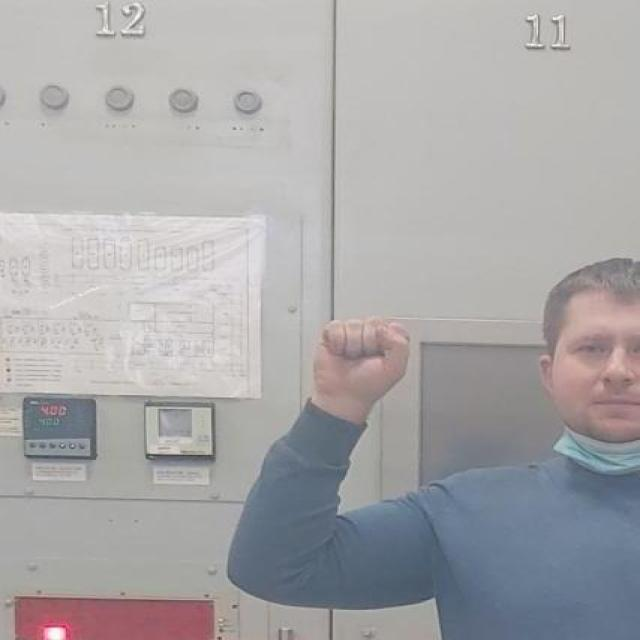hand: (308, 314, 411, 422)
